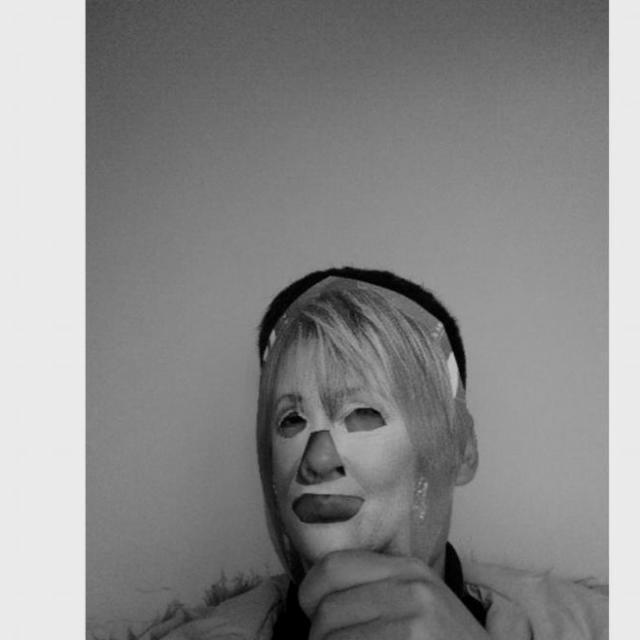fake: (252, 275, 476, 591)
